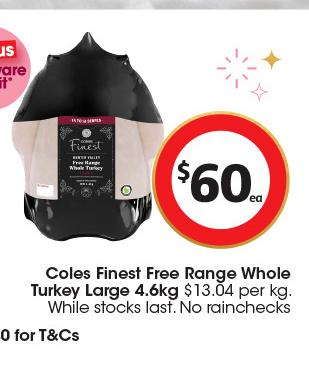description_block: (25, 261, 295, 301)
price_main: (156, 110, 283, 231)
product_image_block: (9, 34, 174, 256)
unit_price_block: (180, 279, 293, 301)
